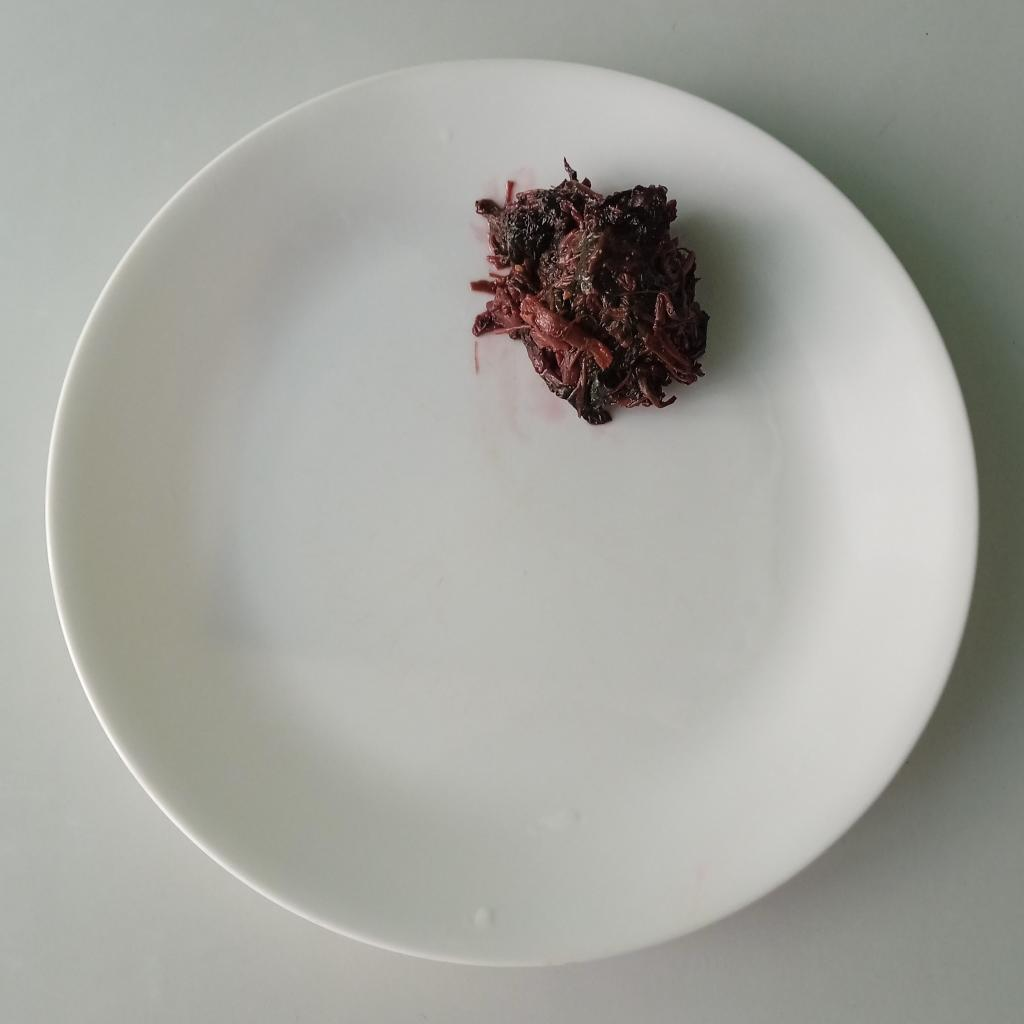lal-shak: (468, 156, 714, 429)
